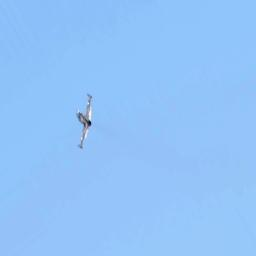Airplane: (75, 94, 94, 151)
